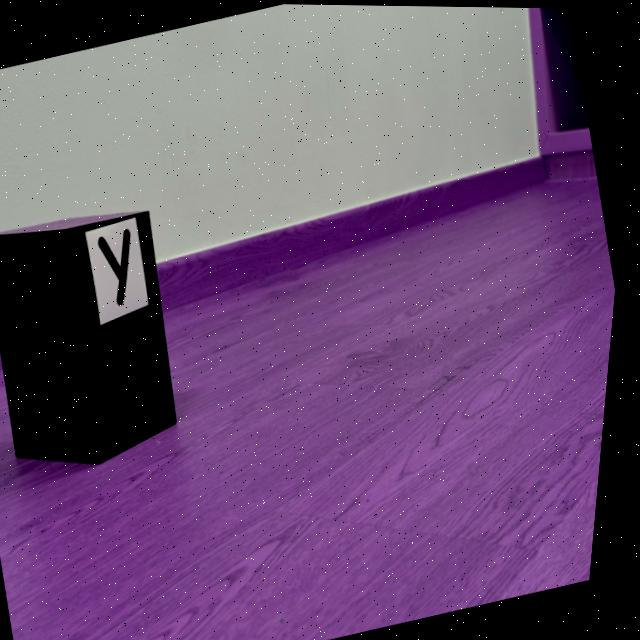Y: (102, 228, 135, 305)
